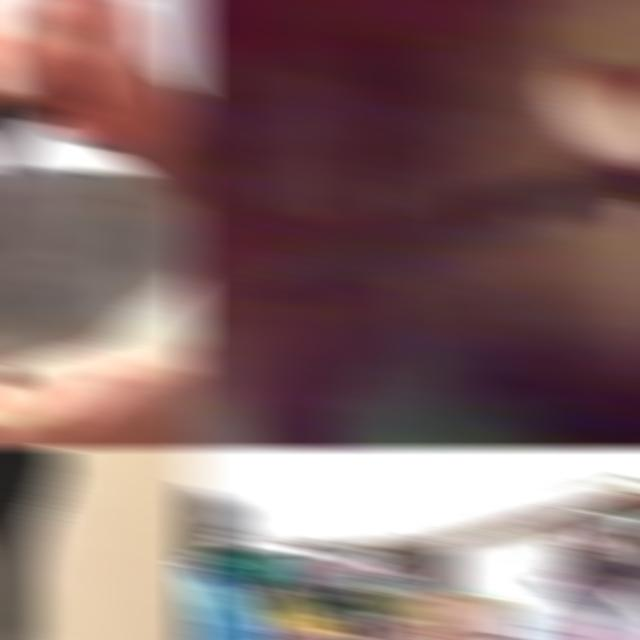Knife: (0, 88, 61, 296)
Knife_Handle: (230, 0, 640, 306), (0, 0, 150, 298)
